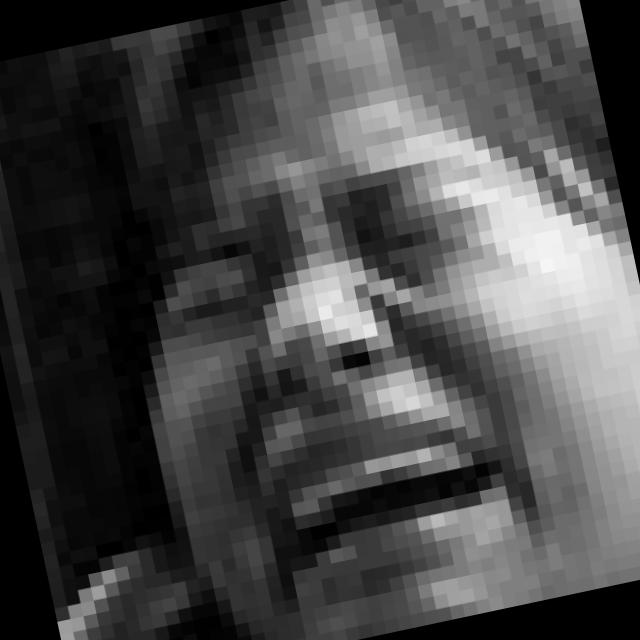sad: (138, 90, 592, 634)
